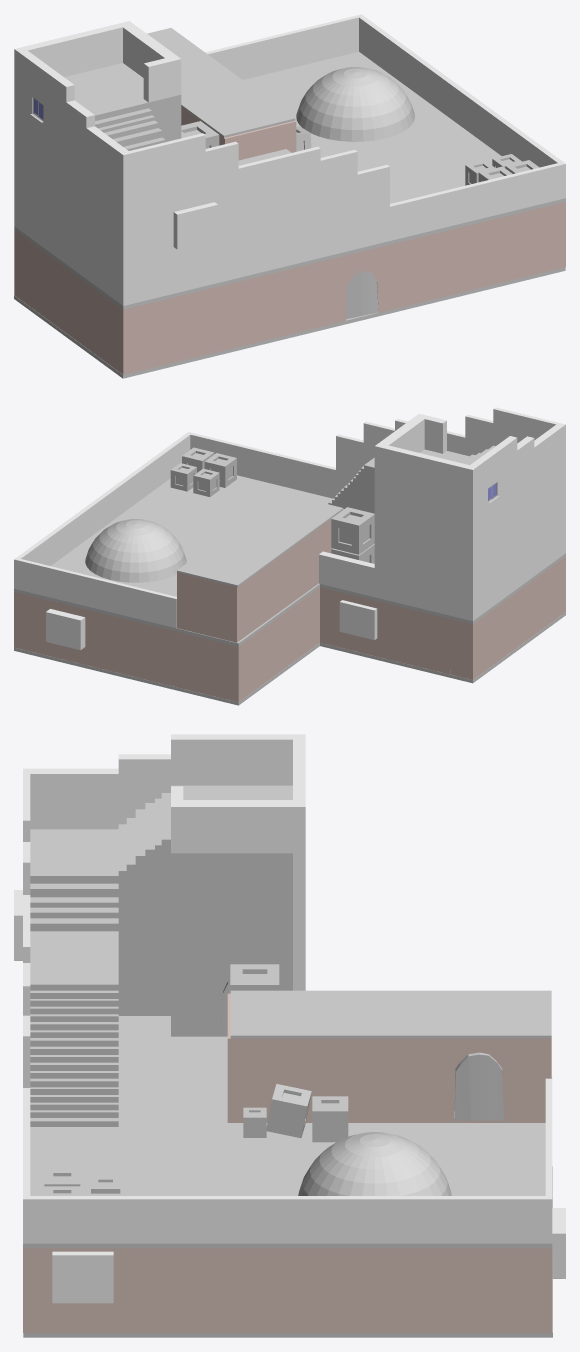
File: 2doorbuilding (1).fbx
The picture shows the model from 3 angles, top to bottom: view 1: azimuth 30°, elevation 25°; view 2: azimuth 150°, elevation 25°; view 3: azimuth 270°, elevation 25°; orthographic projection. The views are drawn at different scales.
Parts seen in each view (by area): view 1: Cube.022, Room.002, Cube.018, Room, Sphere, Cube.025, Cube.021, Cube.023, Room.003, CTRL_Hole.004, Cube.027, Cube.026; view 2: Cube.022, Room, Room.002, Cube.018, Room.003, Cube.025, Sphere, Cube.026, Cube.023, CTRL_Hole.003, CTRL_Hole.001, Cube.033 (+5 smaller); view 3: Cube.022, Cube.018, Room, Cube.023, Room.003, Cube.021, Cube.025, Sphere, CTRL_Hole, Cube.005, Cube.029, Cube.030 (+3 smaller).
Boxes of the visible parts, x1,y1,x2,y2 form: Cube.022: [14, 14, 565, 305]; Room.002: [14, 230, 302, 374]; Cube.018: [14, 52, 565, 378]; Room: [302, 202, 565, 331]; Sphere: [296, 67, 414, 141]; Cube.025: [147, 28, 295, 137]; Cube.021: [64, 63, 181, 141]; Cube.023: [95, 108, 291, 165]; Room.003: [181, 107, 296, 160]; CTRL_Hole.004: [173, 202, 218, 249]; Cube.027: [346, 271, 378, 319]; Cube.026: [181, 121, 219, 148]; Cube.022: [14, 407, 565, 628]; Room: [14, 587, 319, 702]; Room.002: [320, 556, 565, 679]; Cube.018: [14, 475, 565, 705]; Room.003: [177, 509, 343, 642]; Cube.025: [177, 493, 343, 587]; Sphere: [85, 519, 186, 582]; Cube.026: [331, 507, 374, 554]; Cube.023: [328, 445, 495, 513]; CTRL_Hole.003: [46, 609, 85, 650]; CTRL_Hole.001: [339, 600, 377, 640]; Cube.033: [204, 453, 236, 487]; Cube.022: [23, 734, 552, 1243]; Cube.018: [23, 1016, 552, 1337]; Room: [23, 1248, 552, 1332]; Cube.023: [30, 793, 170, 1126]; Room.003: [227, 993, 551, 1122]; Cube.021: [171, 785, 292, 1036]; Cube.025: [230, 990, 551, 1038]; Sphere: [298, 1132, 451, 1195]; CTRL_Hole: [52, 1252, 113, 1303]; Cube.005: [454, 1052, 503, 1120]; Cube.029: [266, 1084, 311, 1138]; Cube.030: [312, 1096, 348, 1142].
Size of the model in its own units: 2752 by 1460 by 2256.
